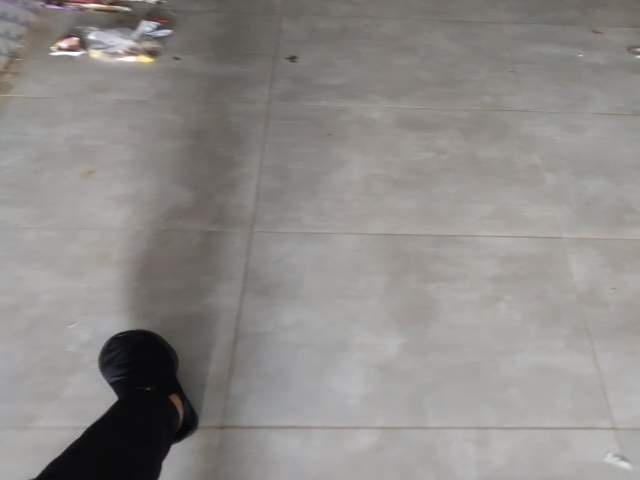pothole: (127, 404, 317, 480)
